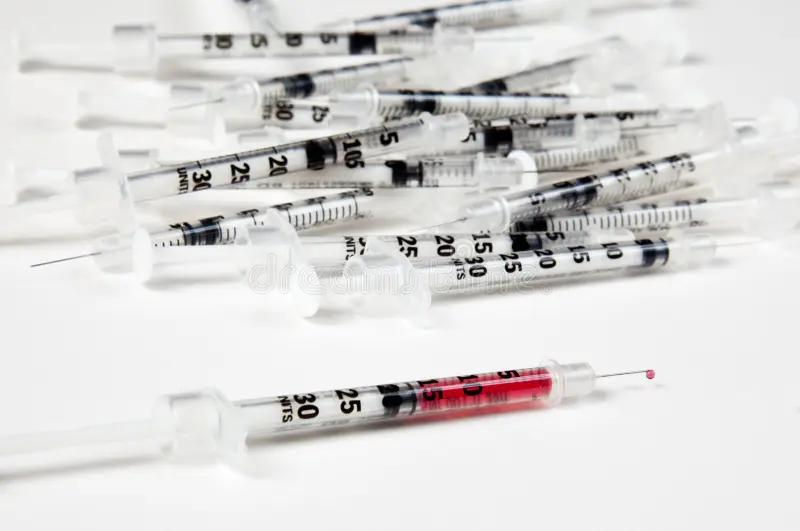Syringe: (0, 361, 654, 472), (0, 115, 468, 225), (281, 233, 721, 322), (130, 211, 632, 281), (438, 136, 799, 231), (126, 114, 468, 202), (16, 25, 489, 72), (79, 58, 411, 121), (448, 104, 728, 170), (509, 188, 799, 236), (146, 189, 373, 247), (464, 36, 685, 93), (328, 84, 651, 122), (252, 151, 536, 188), (322, 0, 585, 31), (443, 116, 619, 155), (0, 160, 112, 206), (589, 0, 686, 12)
